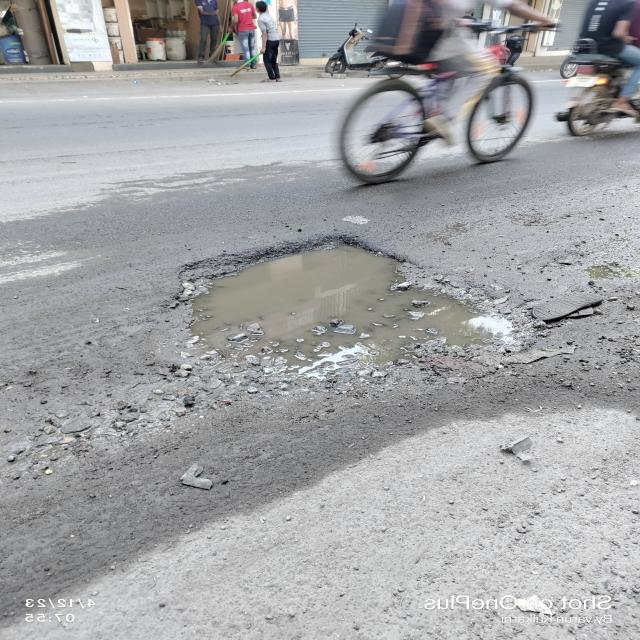Puddle pothole: (157, 241, 488, 374)
